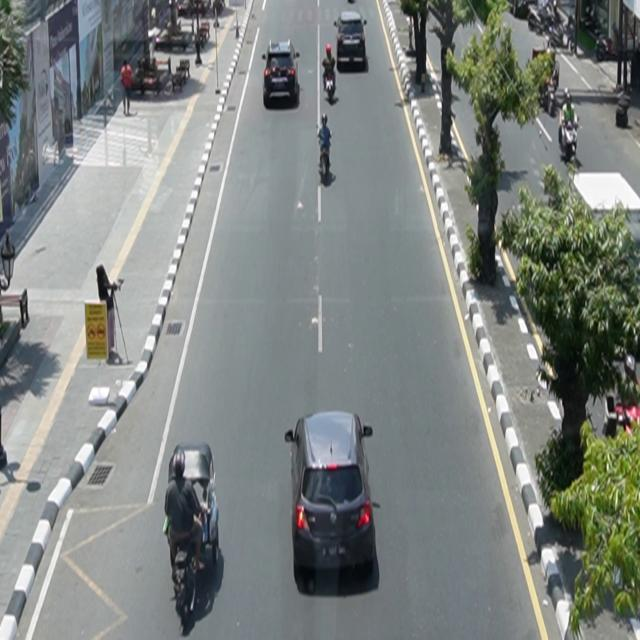car: (285, 411, 377, 580), (168, 443, 220, 567), (263, 40, 301, 108), (334, 11, 368, 70)
